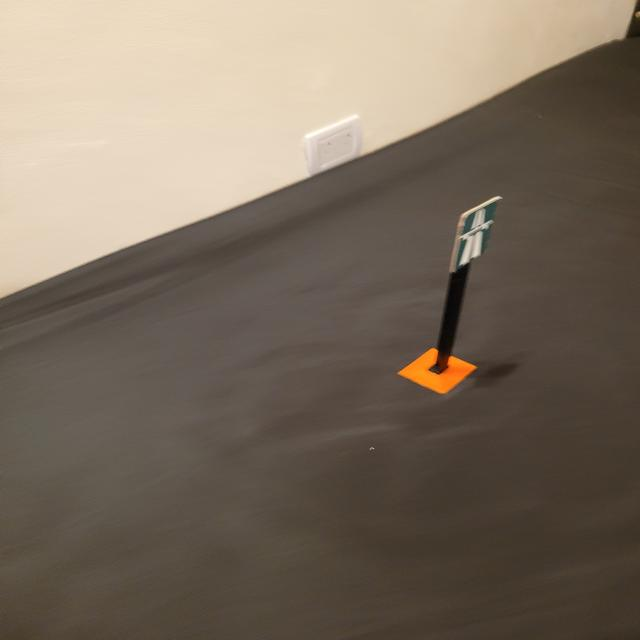highway_entrance: (446, 197, 502, 277)
